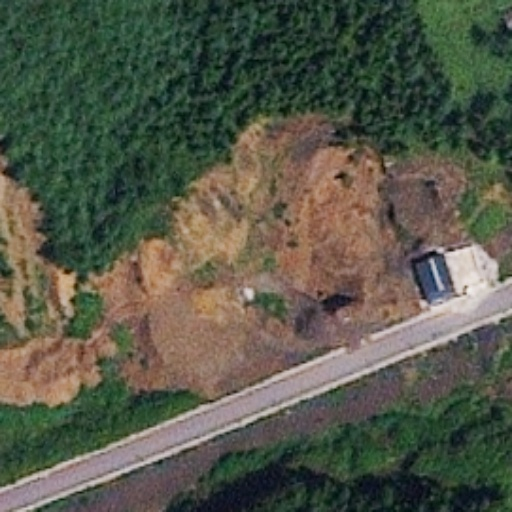landslide: (5, 115, 454, 406)
